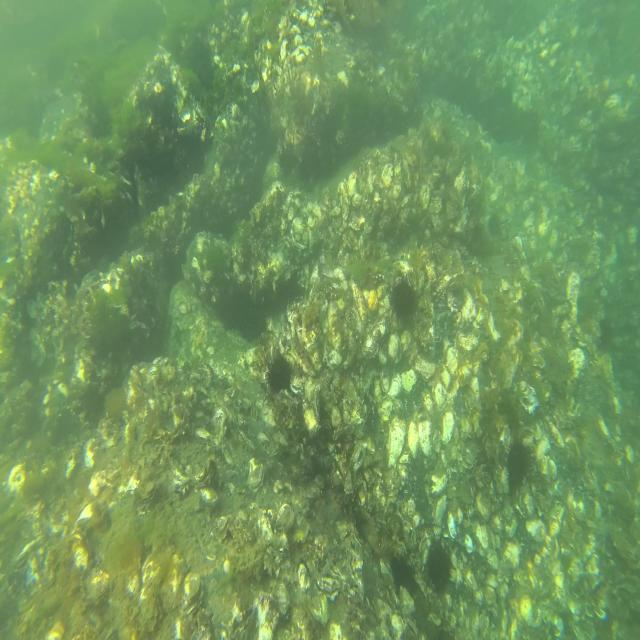echinus: (427, 538, 454, 595), (388, 281, 420, 324), (506, 441, 532, 493), (264, 356, 293, 395), (595, 317, 615, 353)
starfish: (325, 497, 345, 527)
